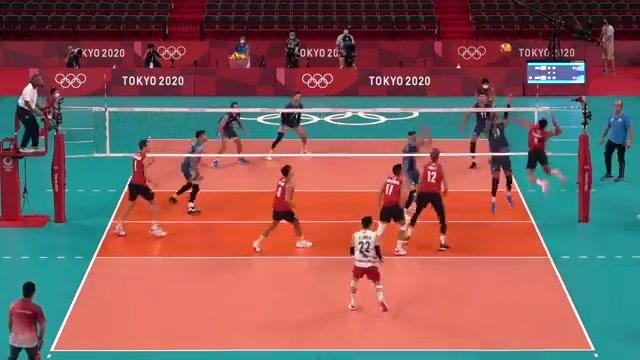ball: (499, 43, 511, 56)
